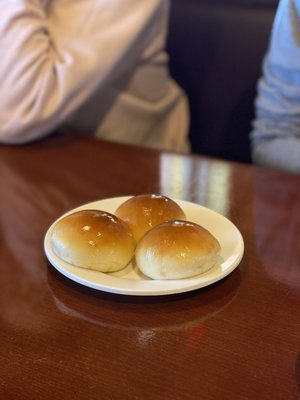curry: (0, 133, 299, 399)
salad: (48, 209, 135, 274), (134, 220, 221, 280), (115, 194, 187, 248)
